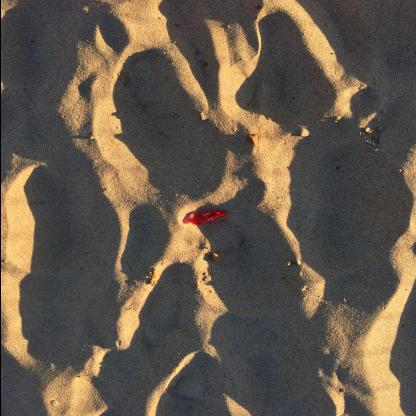plastik: (191, 211, 226, 225)
